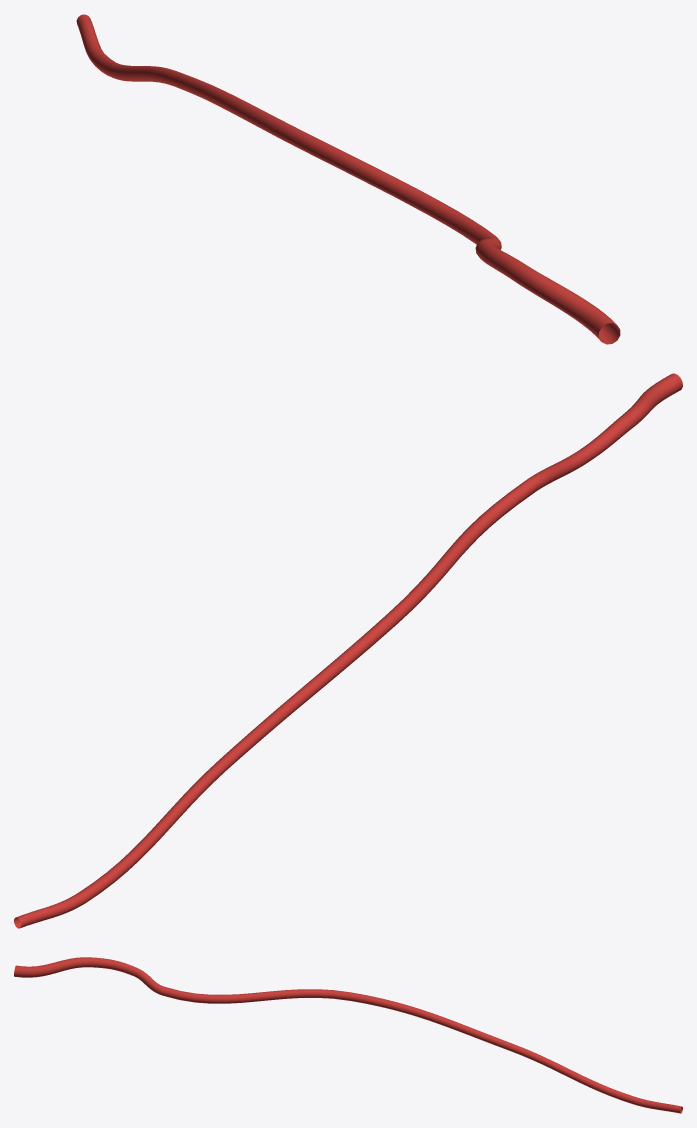
The picture shows the model from 3 angles, top to bottom: view 1: azimuth 30°, elevation 25°; view 2: azimuth 150°, elevation 25°; view 3: azimuth 270°, elevation 25°; orthographic projection. The views are drawn at different scales.
Parts seen in each view (by area): view 1: 左侧尺动脉; view 2: 左侧尺动脉; view 3: 左侧尺动脉.
Part boxes in pixels (box(x1,y1,x2,y2)): 左侧尺动脉: box(76, 14, 620, 344); 左侧尺动脉: box(14, 373, 682, 928); 左侧尺动脉: box(14, 957, 682, 1113).
Size of the model in its own units: 0.05 by 0.0661 by 0.3404.
